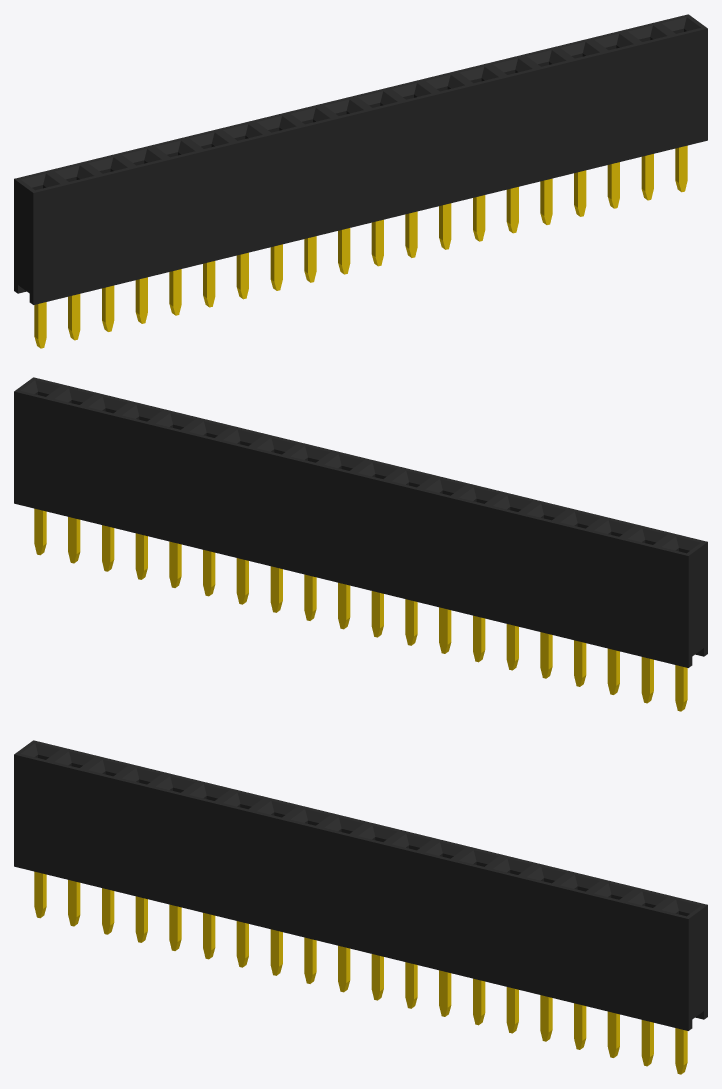
Rendered from PBS2-20.glb.
The picture shows the model from 3 angles, top to bottom: view 1: azimuth 30°, elevation 25°; view 2: azimuth 150°, elevation 25°; view 3: azimuth 330°, elevation 25°; orthographic projection.
Visible parts, largest first — view 1: PBS2 (DS1026-20 CONNFLY); view 2: PBS2 (DS1026-20 CONNFLY); view 3: PBS2 (DS1026-20 CONNFLY).
Part boxes in pixels (box(x1,y1,x2,y2)): PBS2 (DS1026-20 CONNFLY): box(14, 14, 707, 348); PBS2 (DS1026-20 CONNFLY): box(14, 377, 707, 711); PBS2 (DS1026-20 CONNFLY): box(14, 740, 707, 1074).
Size of the model in its own units: 0.04 by 0.00935 by 0.002.
